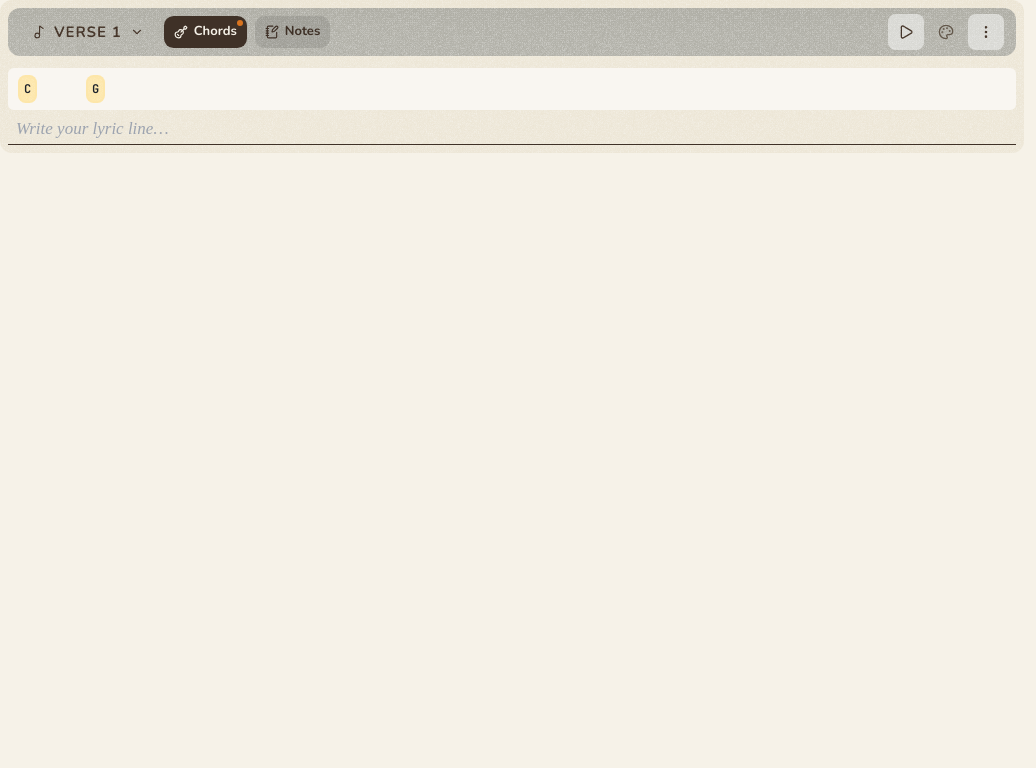
contextual chord actions › Select opens the move menu in multi-select with the chord already picked
Click the button "C" at (28, 89), box [18, 75, 37, 103]
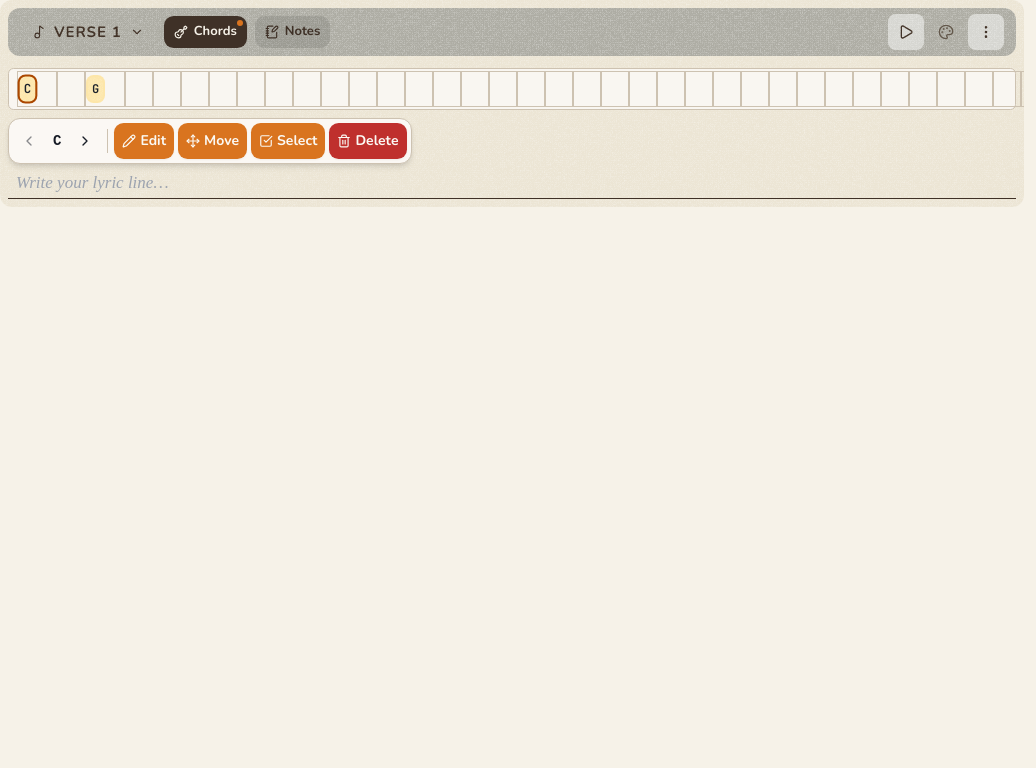
Click the button "Select" at (288, 141), box [251, 123, 325, 159]
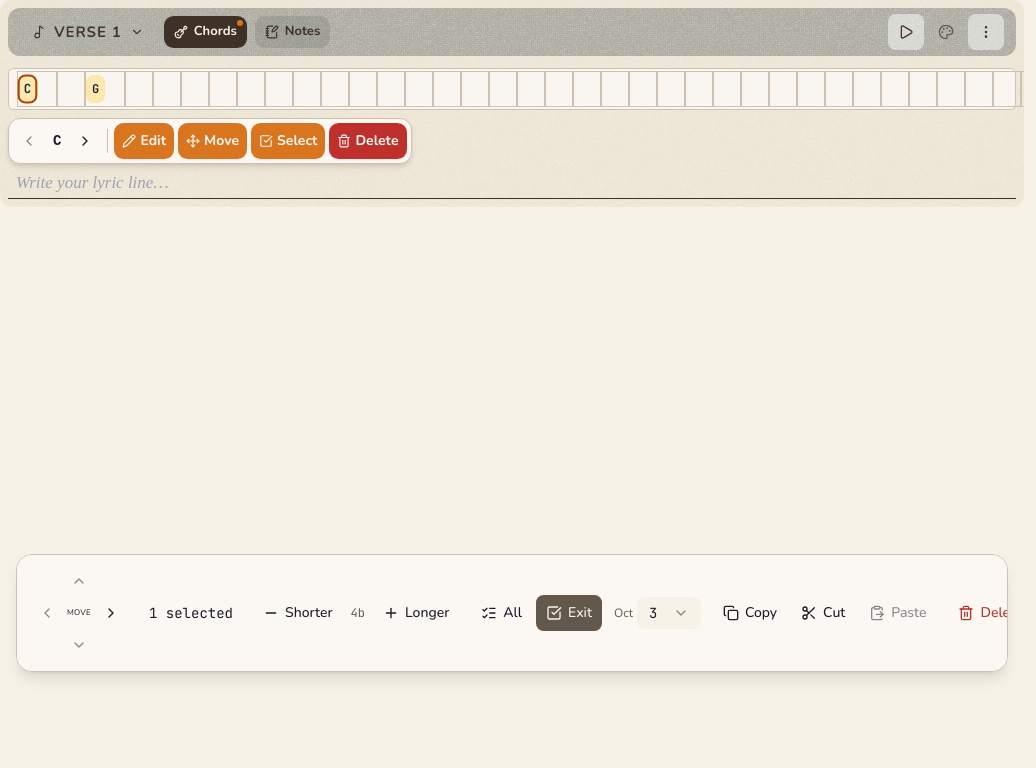
Now the text "1 selected" is shown, box [149, 604, 233, 622]
Click the button "G" at (96, 89), box [86, 75, 105, 103]
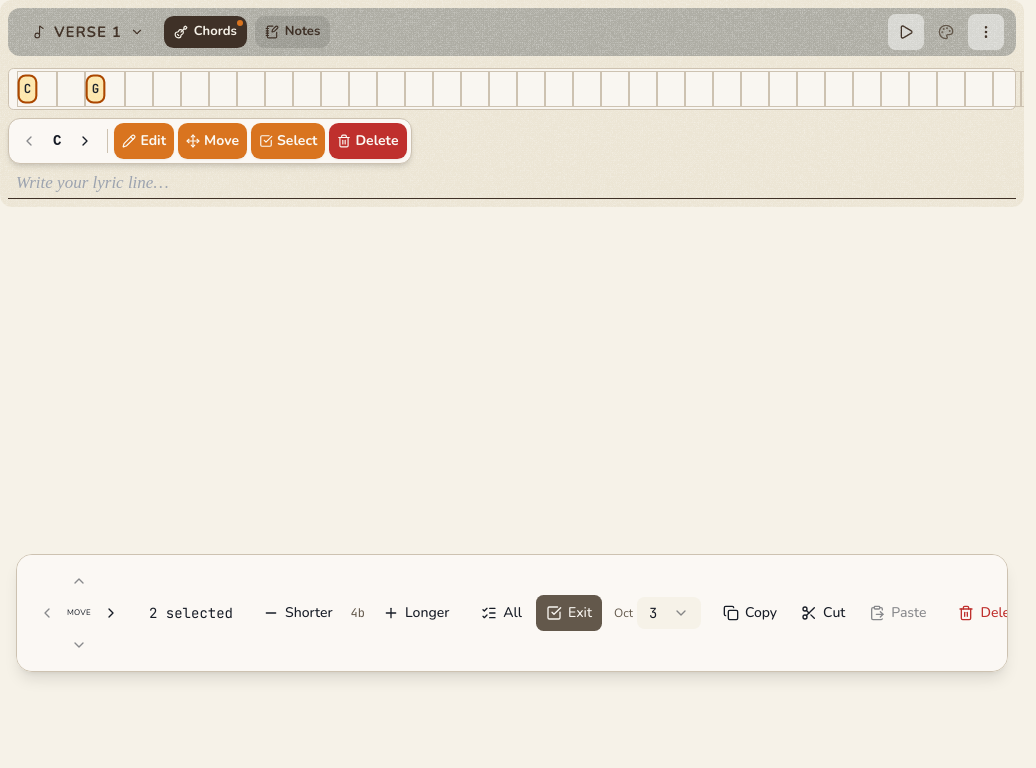
Now the text "2 selected" is shown, box [149, 604, 233, 622]
